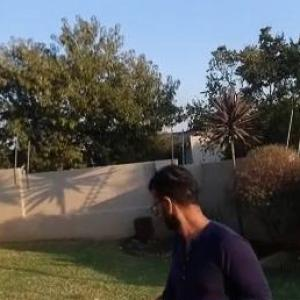follow: (134, 157, 280, 299)
